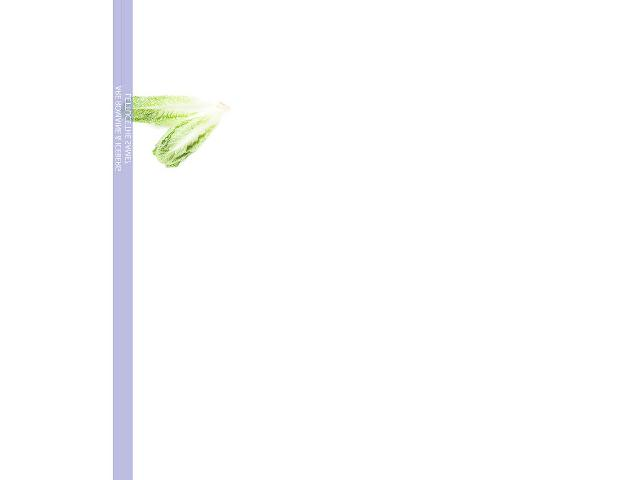lettuce: (146, 98, 229, 166)
